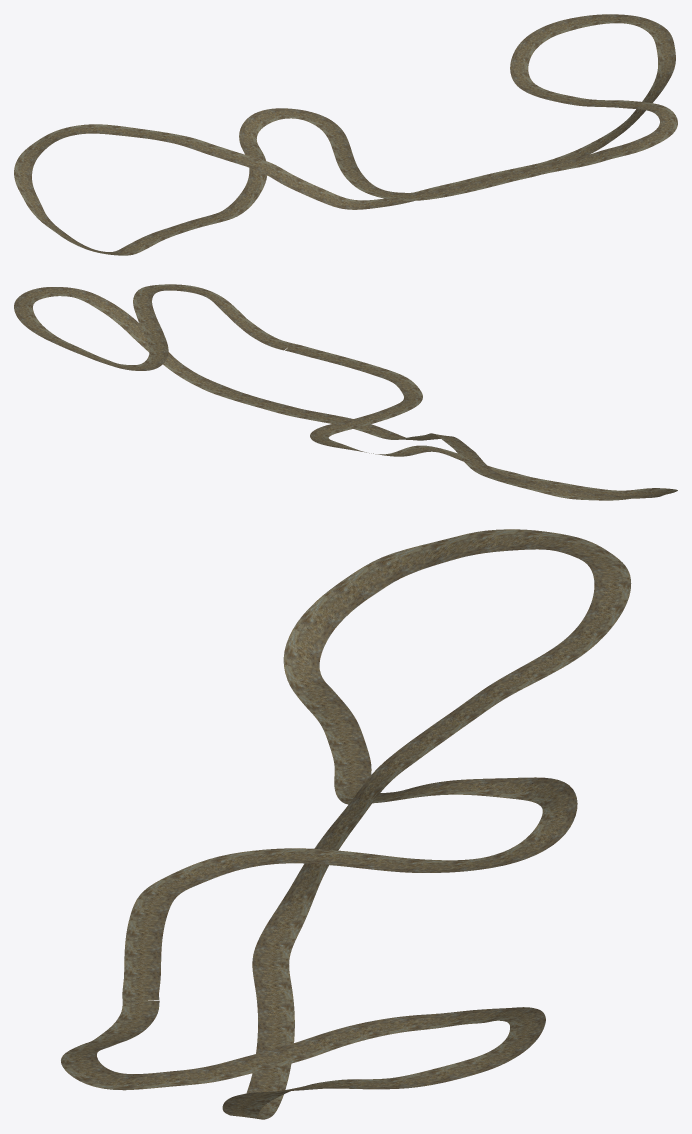
The model's file is DesertMap_track.fbx.
The picture shows the model from 3 angles, top to bottom: view 1: azimuth 30°, elevation 25°; view 2: azimuth 150°, elevation 25°; view 3: azimuth 270°, elevation 25°; orthographic projection. The views are drawn at different scales.
Parts seen in each view (by area): view 1: poly_track; view 2: poly_track; view 3: poly_track.
Boxes of the visible parts, x1,y1,x2,y2 form: poly_track: (14,14,677,255); poly_track: (14,284,677,500); poly_track: (61,529,631,1119).
Size of the model in its own units: 3321 by 403 by 1306.
Materials: 1 (1 with a texture image).
